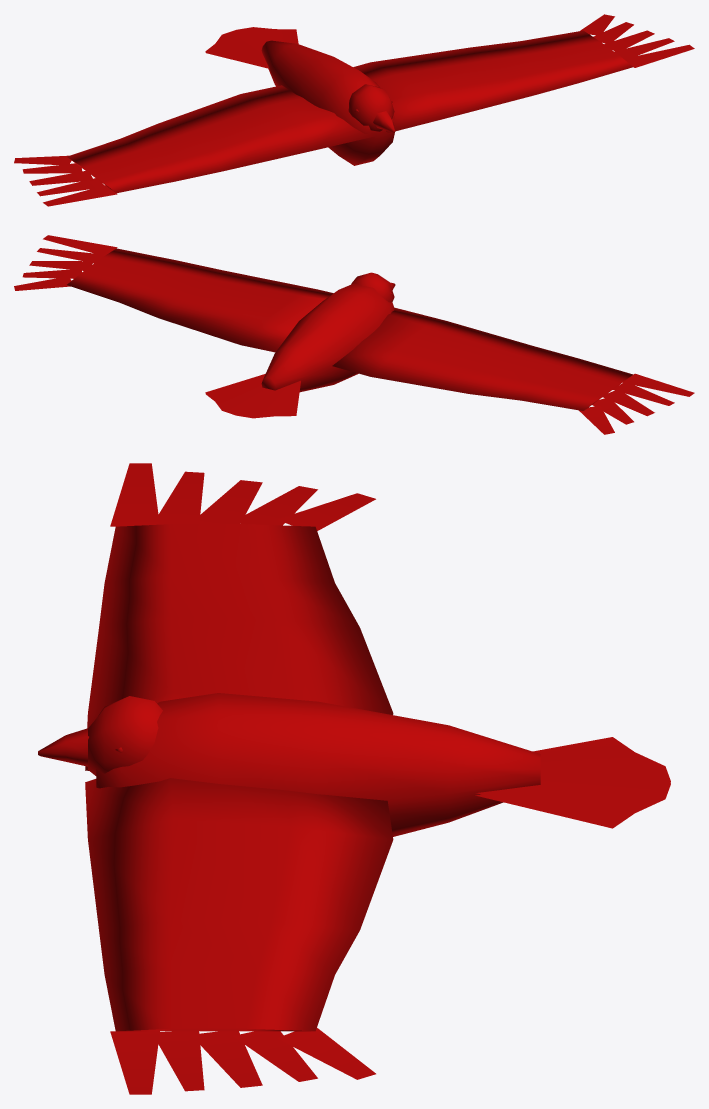
The model's file is eagle.glb.
3 renders of one model, top to bottom at view 1: azimuth 30°, elevation 25°; view 2: azimuth 150°, elevation 25°; view 3: azimuth 270°, elevation 25°, orthographic. The views are drawn at different scales.
Parts seen in each view (by area): view 1: wing, body; view 2: wing, body; view 3: wing, body.
Boxes of the visible parts, box(x1,y1,x2,y2) form: wing: box(14, 14, 694, 206); body: box(205, 27, 395, 165); wing: box(14, 235, 694, 434); body: box(205, 272, 395, 418); wing: box(85, 463, 393, 1094); body: box(38, 693, 670, 836).
Bounding box in the file's own units: 2.1 × 0.2578 × 0.8906.
